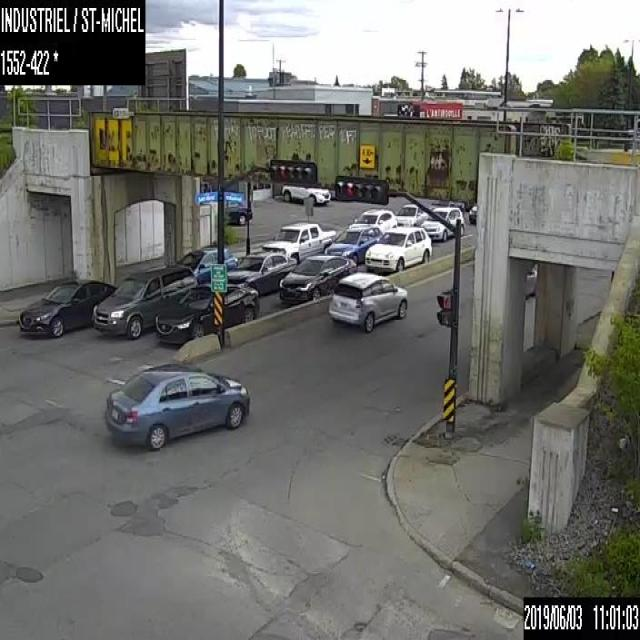vehicle: (102, 361, 248, 452), (92, 266, 197, 338), (155, 283, 258, 343), (18, 281, 116, 336), (328, 270, 406, 332), (278, 253, 356, 301), (261, 220, 336, 262), (225, 251, 296, 295), (364, 225, 430, 270), (175, 244, 237, 283), (322, 226, 382, 264), (420, 206, 465, 238), (281, 181, 331, 204), (349, 207, 397, 228), (224, 199, 252, 225), (396, 203, 426, 225), (468, 203, 475, 224)
